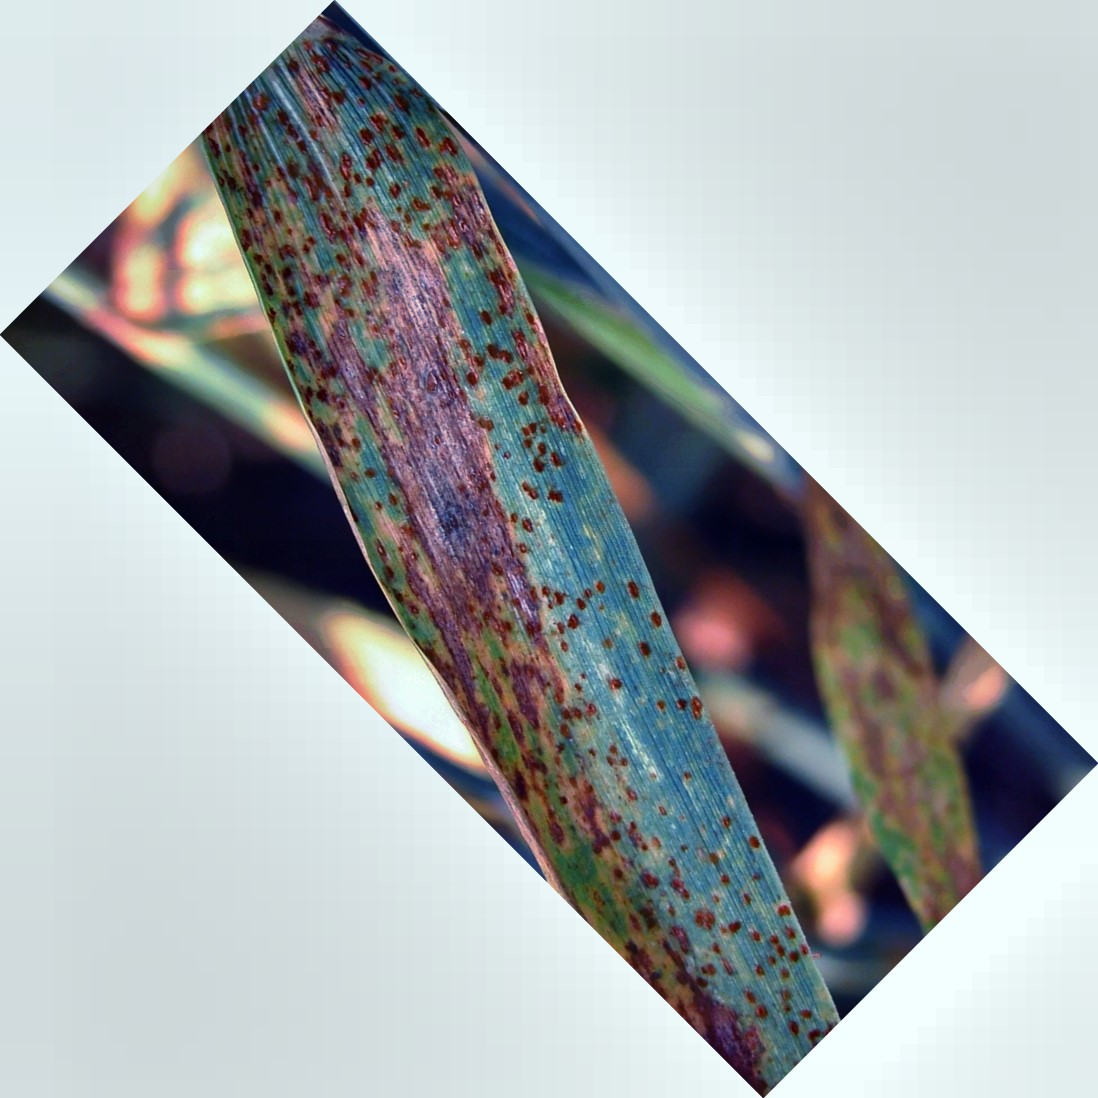Leaf Rust: (274, 145, 745, 965)
